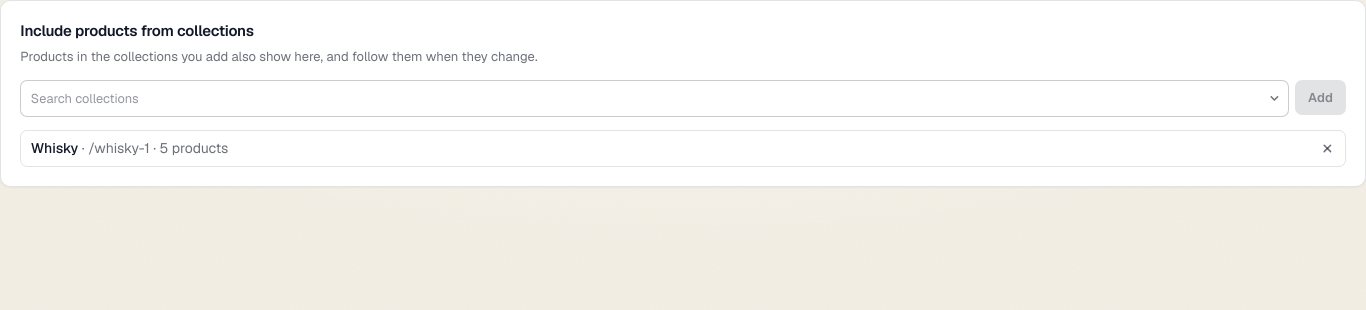
Test: IncludeCollectionsPicker › tells same-titled collections apart by their handle
expect the text "/whisky-1" is shown: met, box [88, 139, 150, 157]
Step 1. Focus the dropdown → {"x": 655, "y": 98}, box [20, 80, 1289, 117]
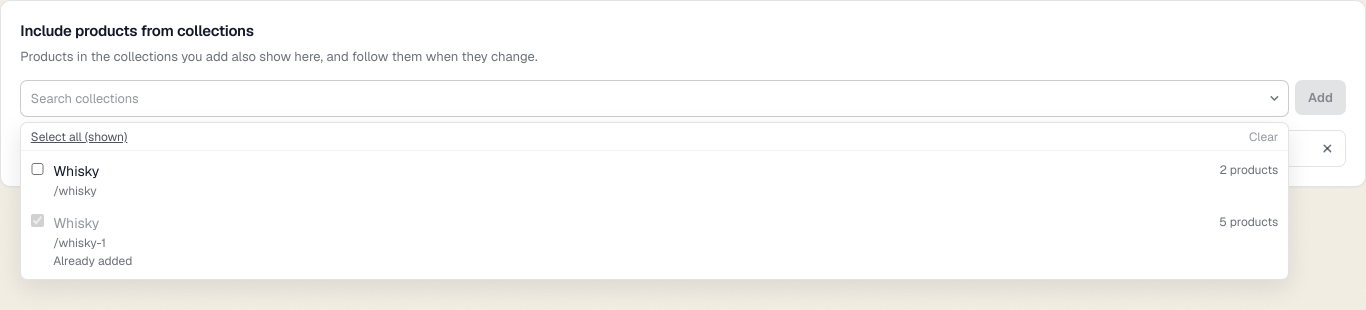
expect the list items read "Whisky/whisky2 products", "Whisky/whisky-1Already added5 products", in this order: met, box [21, 155, 1288, 206]; [21, 206, 1288, 276]
Step 2. Click the checkbox labelled "Whisky /whisky 2 products" → {"x": 37, "y": 169}, box [31, 162, 44, 175]
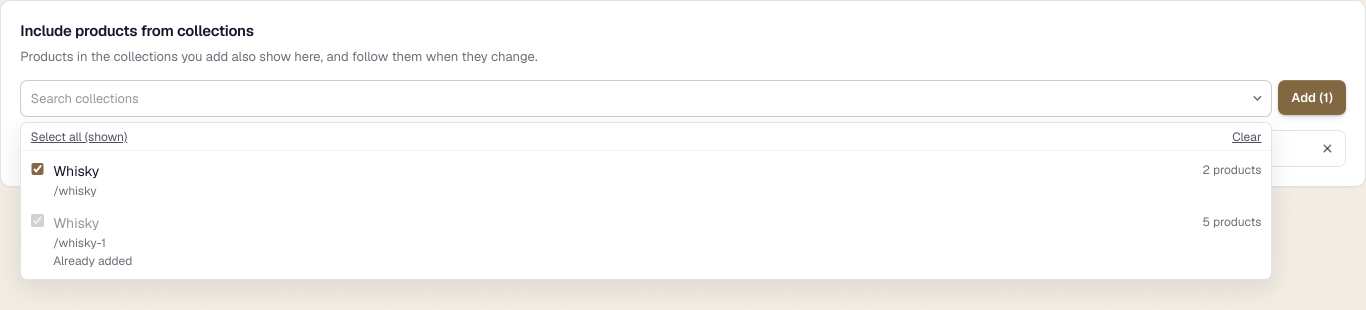
expect the button "Add (1)" is shown: met, box [1278, 80, 1346, 115]
